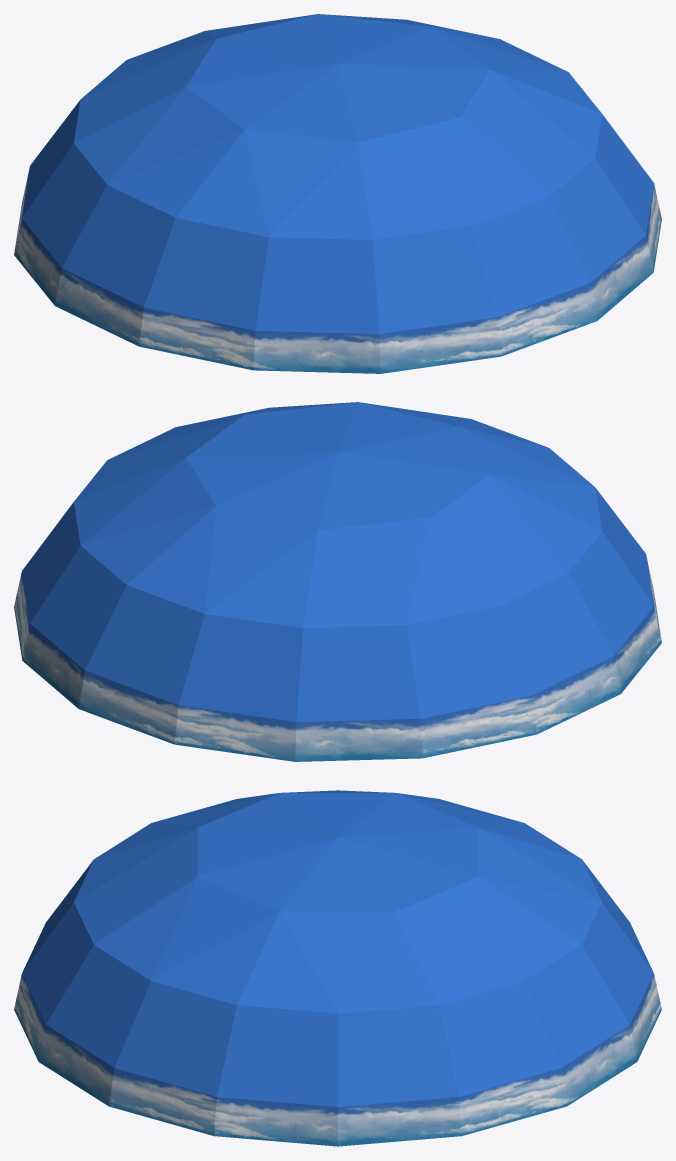
The picture shows the model from 3 angles, top to bottom: view 1: azimuth 30°, elevation 25°; view 2: azimuth 150°, elevation 25°; view 3: azimuth 270°, elevation 25°; orthographic projection.
Parts seen in each view (by area): view 1: s03_dn_03_1, s03_dn_03_0; view 2: s03_dn_03_1, s03_dn_03_0; view 3: s03_dn_03_1, s03_dn_03_0.
Part boxes in pixels (x1=…): s03_dn_03_1: x1=22, y1=14, x2=653, y2=334; s03_dn_03_0: x1=14, y1=168, x2=661, y2=373; s03_dn_03_1: x1=22, y1=402, x2=653, y2=722; s03_dn_03_0: x1=14, y1=556, x2=661, y2=761; s03_dn_03_1: x1=22, y1=790, x2=653, y2=1106; s03_dn_03_0: x1=14, y1=974, x2=661, y2=1146.
Bounding box in the file's own units: 100000 × 42720 × 100000.
